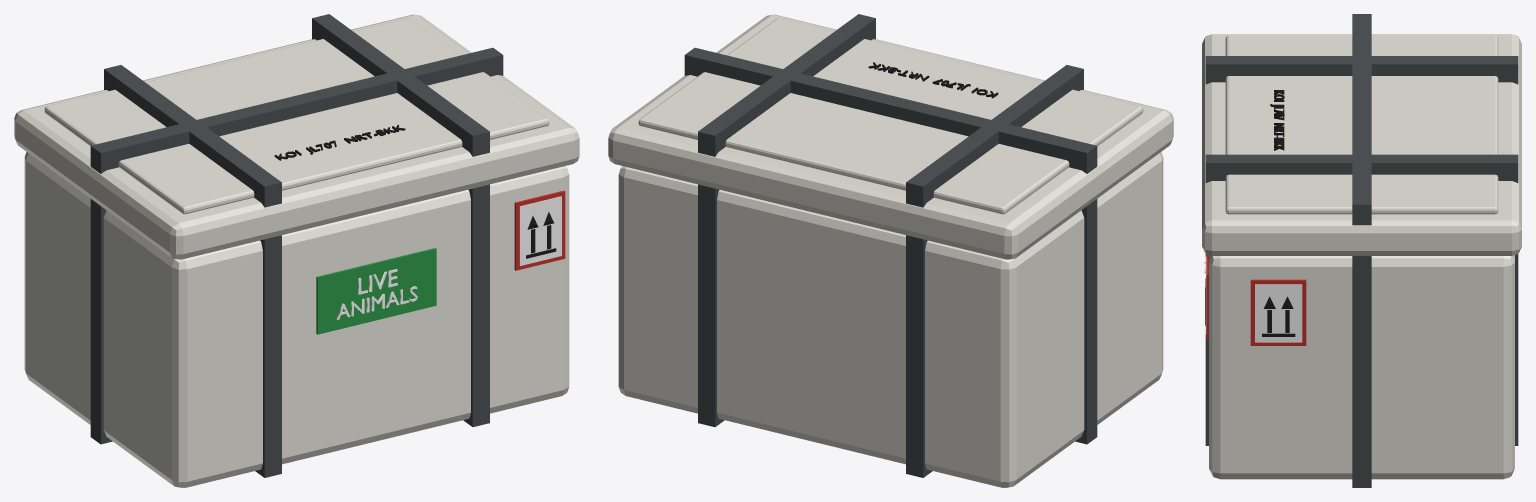
Rendered from fishbox.glb.
3 views of the same model, side by side, from view 1: azimuth 30°, elevation 25°; view 2: azimuth 150°, elevation 25°; view 3: azimuth 270°, elevation 25° (orthographic). The views are drawn at different scales.
Parts seen in each view (by area): view 1: Box_Body, Box_LidTop, Box_Lid, Strap.002, Strap, Strap.001, LiveBg, ArrowBg, ArrowFrame, LiveText2, LidText; view 2: Box_Body, Box_LidTop, Box_Lid, Strap.002, Strap.001, Strap, LidText; view 3: Box_Body, Box_LidTop, Box_Lid, Strap.002, Strap.001, Strap, ArrowBg.001, ArrowFrame.001, LidText.
Part boxes in pixels (box(x1,y1,x2,y2)): Box_Body: box(24, 152, 569, 487); Box_LidTop: box(44, 18, 549, 214); Box_Lid: box(14, 14, 579, 259); Strap.002: box(90, 47, 503, 444); Strap: box(104, 65, 281, 477); Strap.001: box(312, 14, 489, 426); LiveBg: box(316, 248, 436, 334); ArrowBg: box(519, 196, 561, 265); ArrowFrame: box(514, 190, 565, 270); LiveText2: box(336, 286, 417, 319); LidText: box(274, 125, 405, 160); Box_Body: box(618, 152, 1163, 487); Box_LidTop: box(638, 18, 1143, 214); Box_Lid: box(608, 14, 1173, 259); Strap.002: box(684, 47, 1097, 444); Strap.001: box(698, 14, 875, 426); Strap: box(906, 65, 1083, 477); LidText: box(868, 62, 998, 98); Box_Body: box(1209, 255, 1514, 479); Box_LidTop: box(1225, 35, 1498, 214); Box_Lid: box(1202, 34, 1521, 255); Strap.002: box(1352, 14, 1371, 487); Strap.001: box(1205, 154, 1518, 445); Strap: box(1205, 56, 1518, 84); ArrowBg.001: box(1255, 284, 1302, 342); ArrowFrame.001: box(1250, 279, 1306, 345); LidText: box(1270, 90, 1284, 150).
Bounding box in the file's own units: 1.65 × 1.12 × 1.15.
